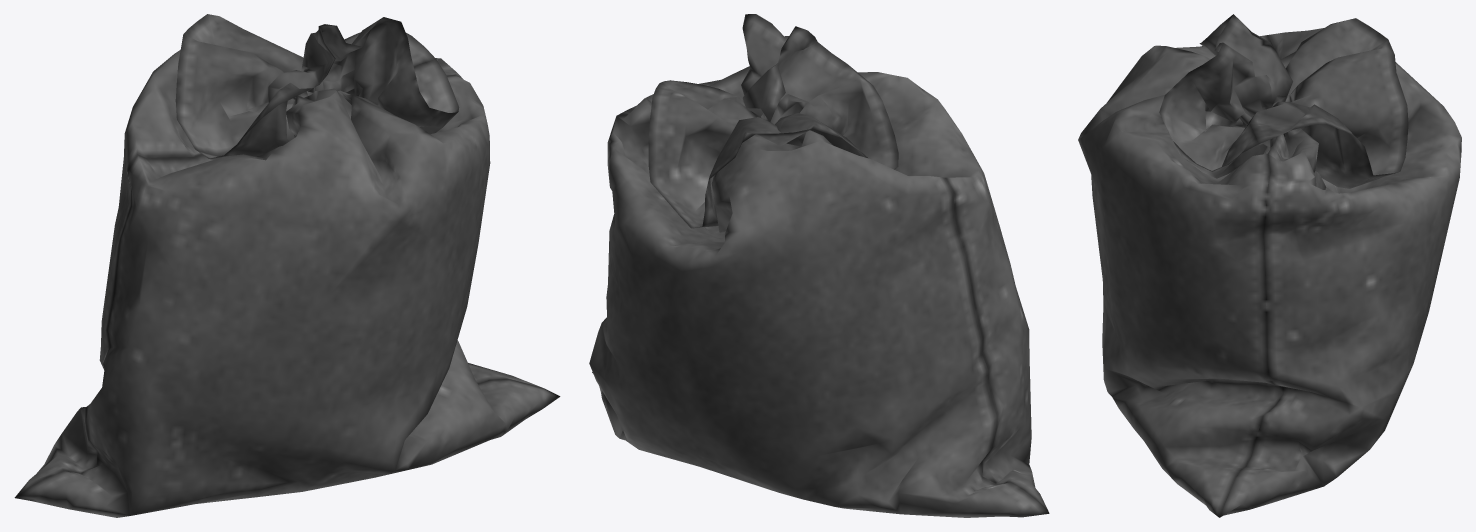
The model's file is Sack.fbx.
3 views of the same model, side by side, from view 1: azimuth 30°, elevation 25°; view 2: azimuth 150°, elevation 25°; view 3: azimuth 270°, elevation 25° (orthographic). The views are drawn at different scales.
Visible parts, largest first — view 1: Sack; view 2: Sack; view 3: Sack.
Part boxes in pixels (x1=…): Sack: x1=14, y1=14, x2=560, y2=517; Sack: x1=589, y1=14, x2=1049, y2=517; Sack: x1=1078, y1=14, x2=1461, y2=517.
Size of the model in its own units: 662 by 529 by 456.
1 material, 1 textured.
